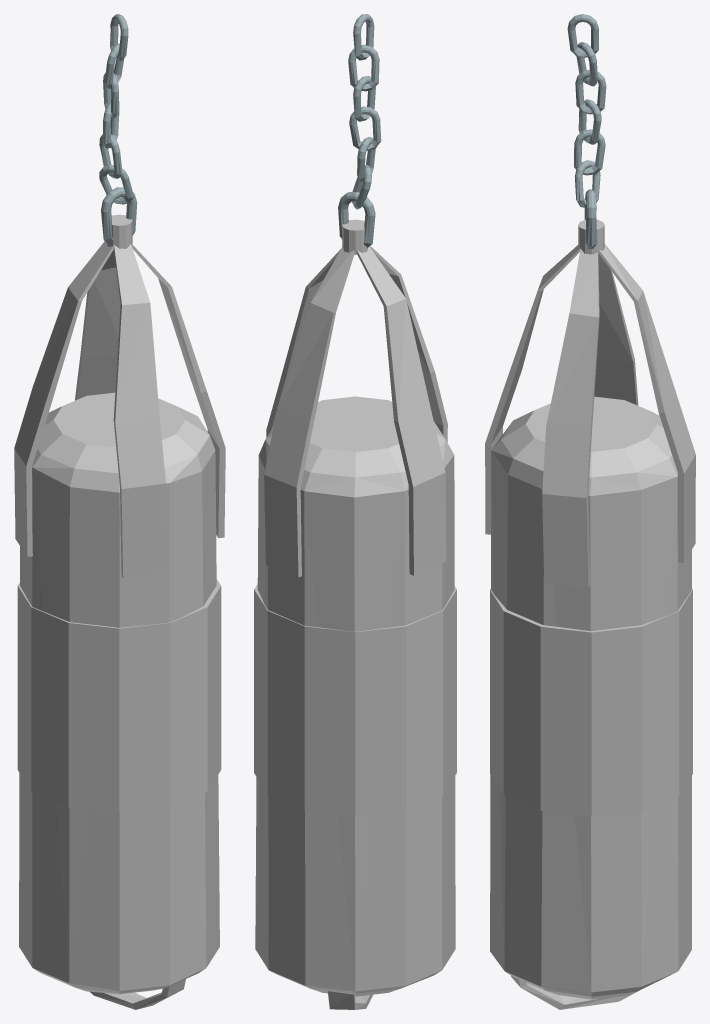
3 renders of one model, left to right at view 1: azimuth 30°, elevation 25°; view 2: azimuth 150°, elevation 25°; view 3: azimuth 270°, elevation 25°, orthographic.
Size of the model in its own units: 0.8753 by 4.5 by 0.8718.
